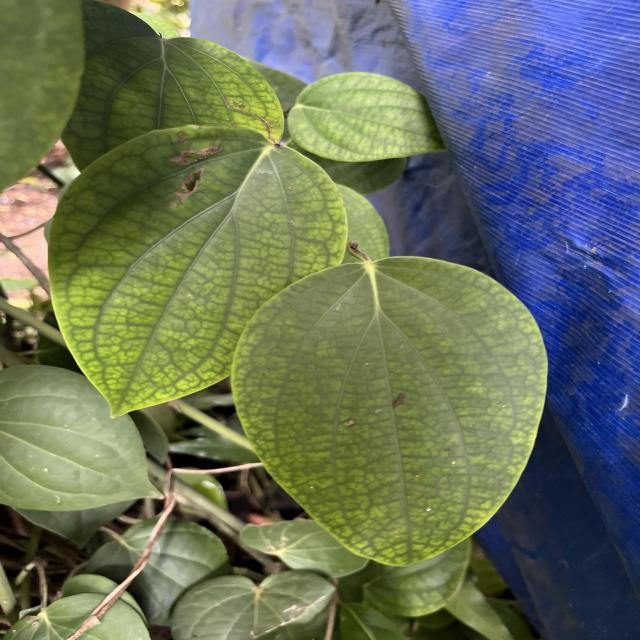Piper nigrum: (229, 253, 552, 570), (46, 123, 350, 421)
